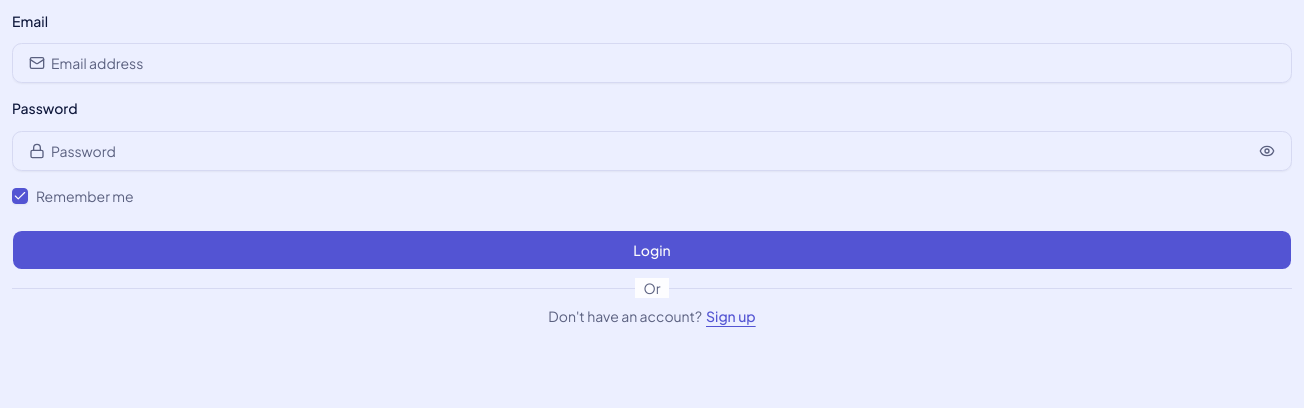
Test: LoginForm › submit dengan email dan password kosong: menampilkan pesan wajib diisi dan tidak memanggil login
Clear the password field labelled "Password" at (650, 150), box [45,132,1255,168]
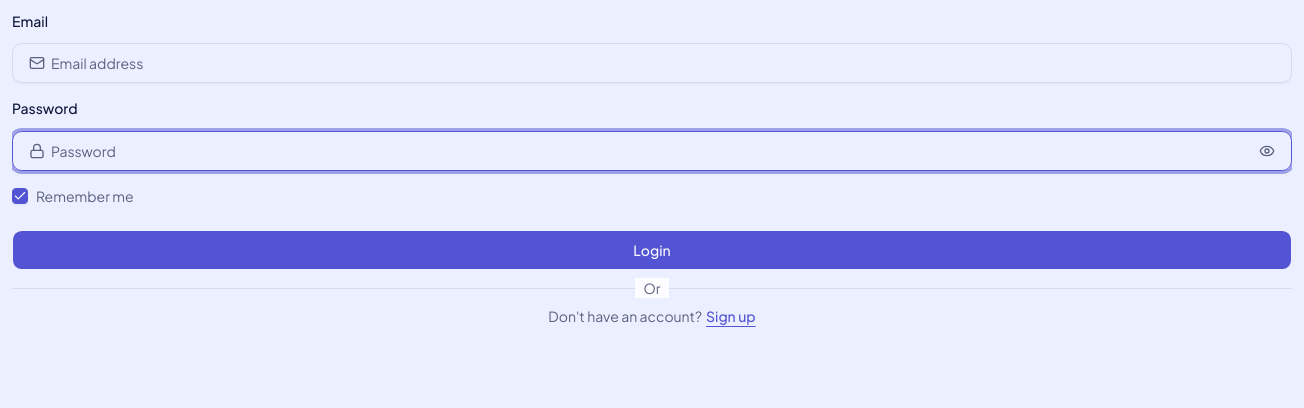
Click the button "Login" at (652, 250), box [12,230,1292,270]
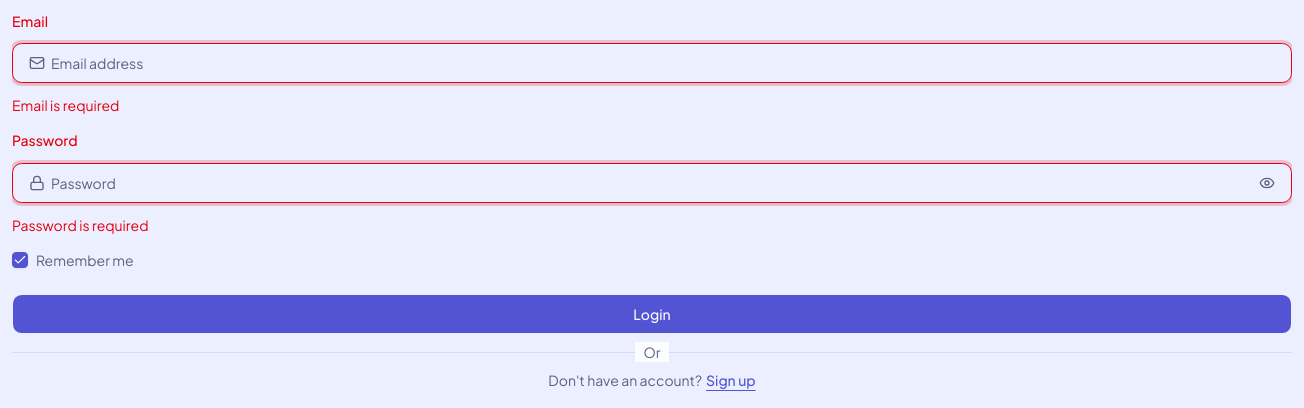
Result: the text "Email is required" is shown at [12,96,119,114]
Result: the text "Password is required" is shown at [12,216,148,234]
